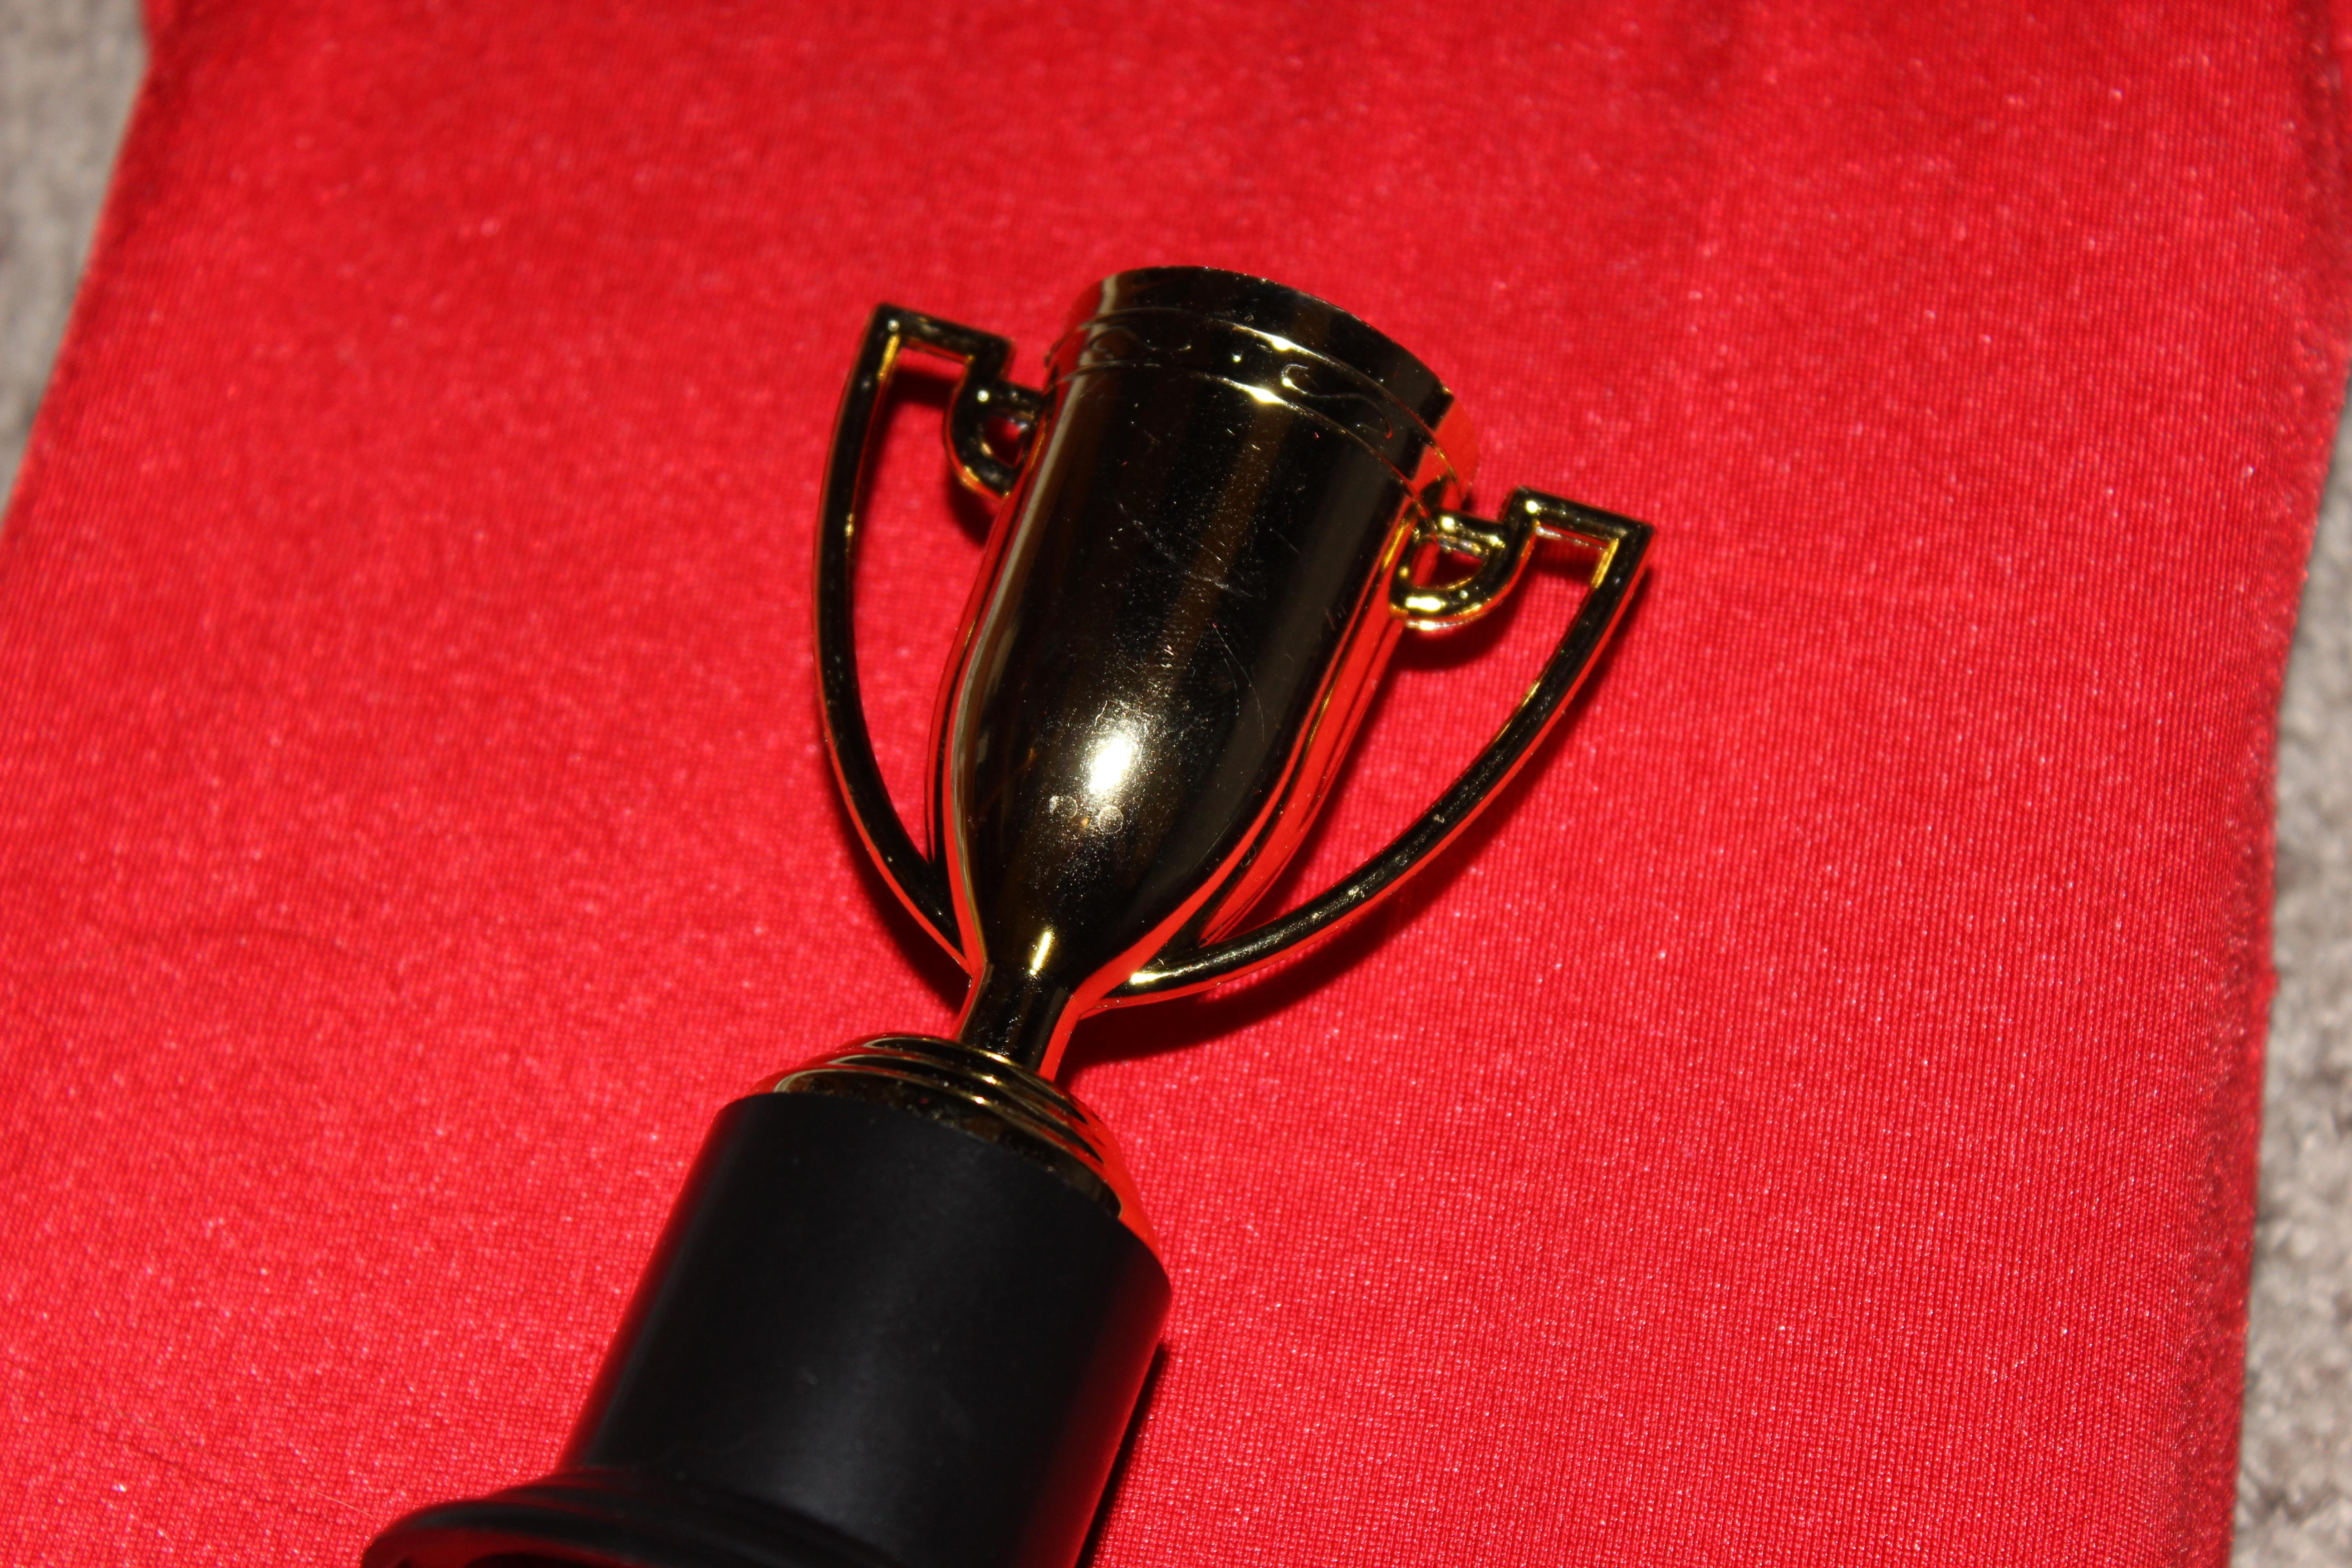trophy: (332, 184, 1717, 1568)
